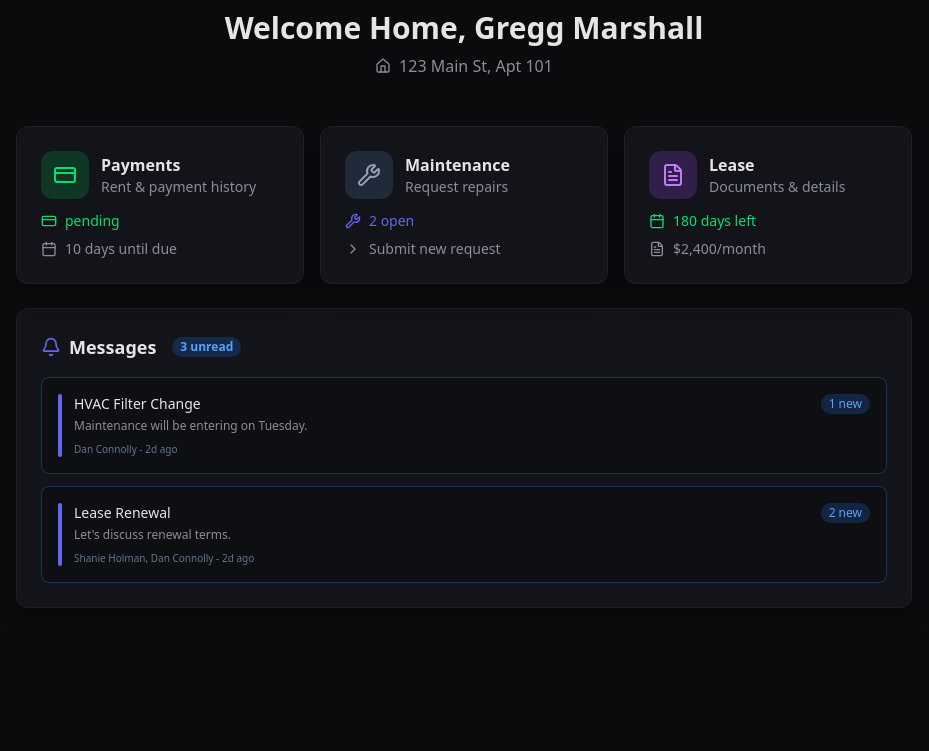
Test: TenantDashboard › Card Interactions › should expand lease card when clicked
The image size is (929, 751).
Click the button "Lease Documents & details 180 days left $2,400/month" at [673, 175], box [624,126,912,284]
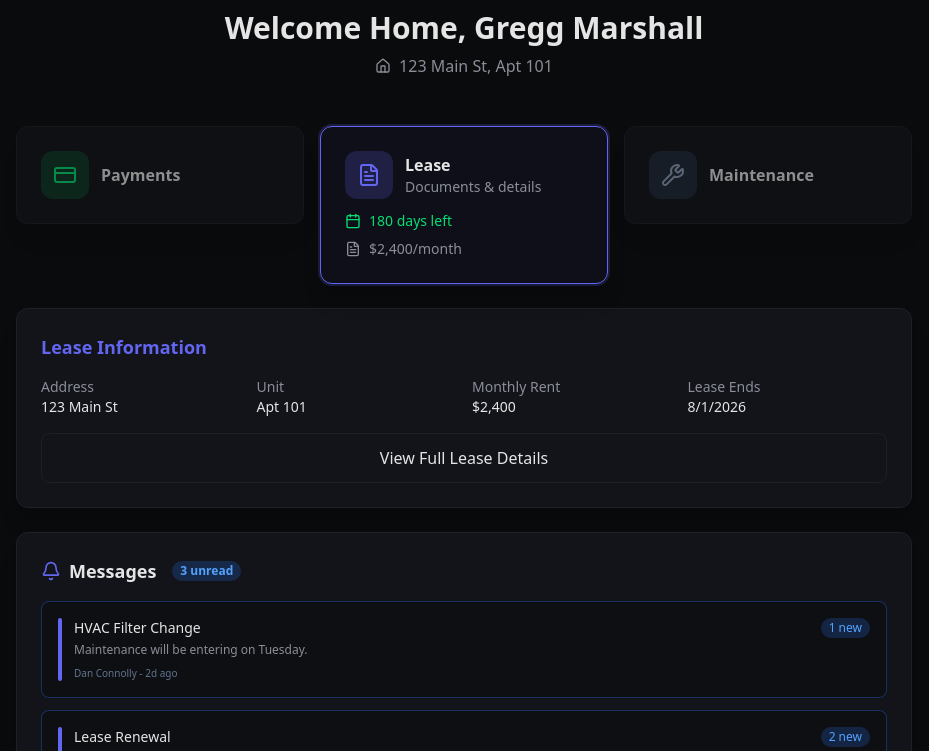
Expected: the heading "Lease Information" is shown, [41,335,207,359]
